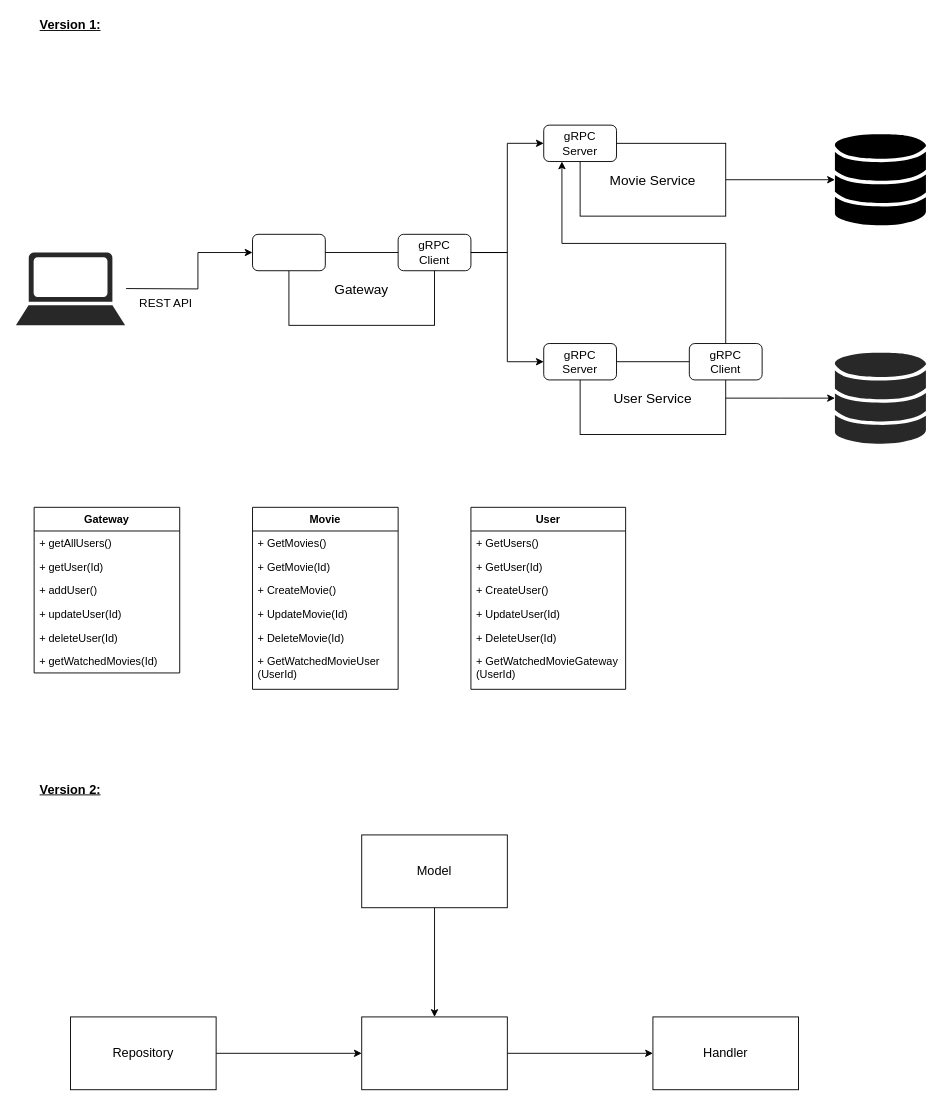
Some shapes in this 942 by 1106 pixel diagram are drawn without their labels. Each missing label, with the box of its shape:
Movie Database: (834, 133, 926, 225)
REST Server: (252, 233, 325, 271)
Usecase: (361, 1016, 507, 1090)
User Database: (834, 352, 925, 443)
